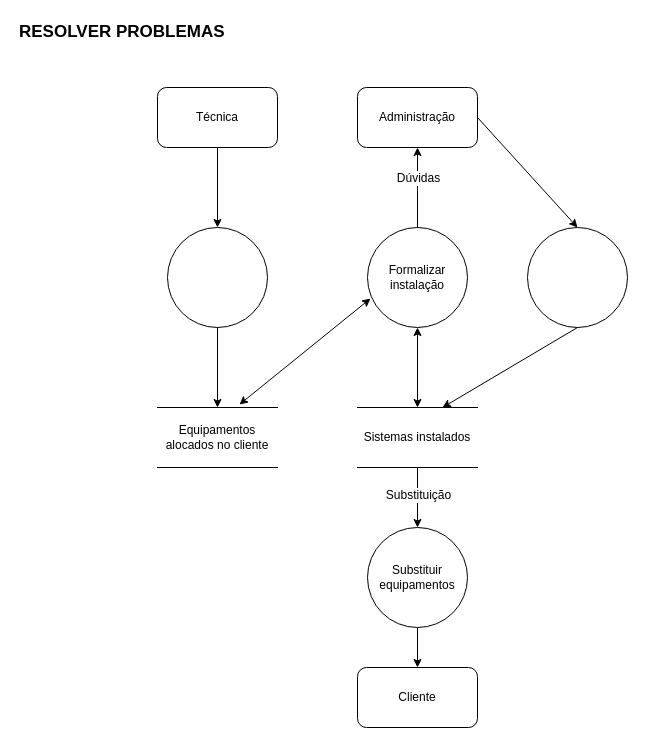
Image size: 645x745. Some labels were removed from this diagram. The box of each missing label's shape, as (x1, y1, x2, y2) in pixels:
Registrar respostas: (526, 226, 628, 328)
Verificar equipamentos: (166, 226, 268, 328)
